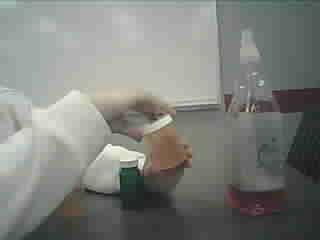Bottle A: (50, 134, 97, 240)
Bottle B: (145, 114, 187, 179)
Bottle C: (115, 152, 146, 220)
hazard: (216, 22, 300, 223)
